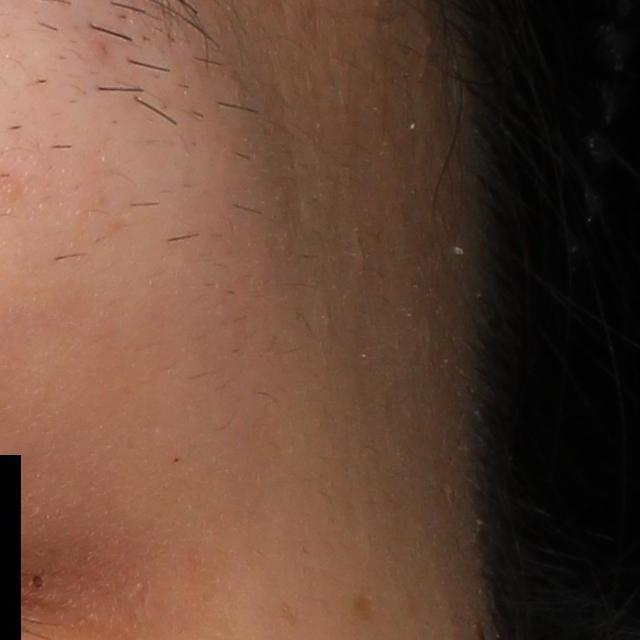melasma: (343, 591, 375, 620)
